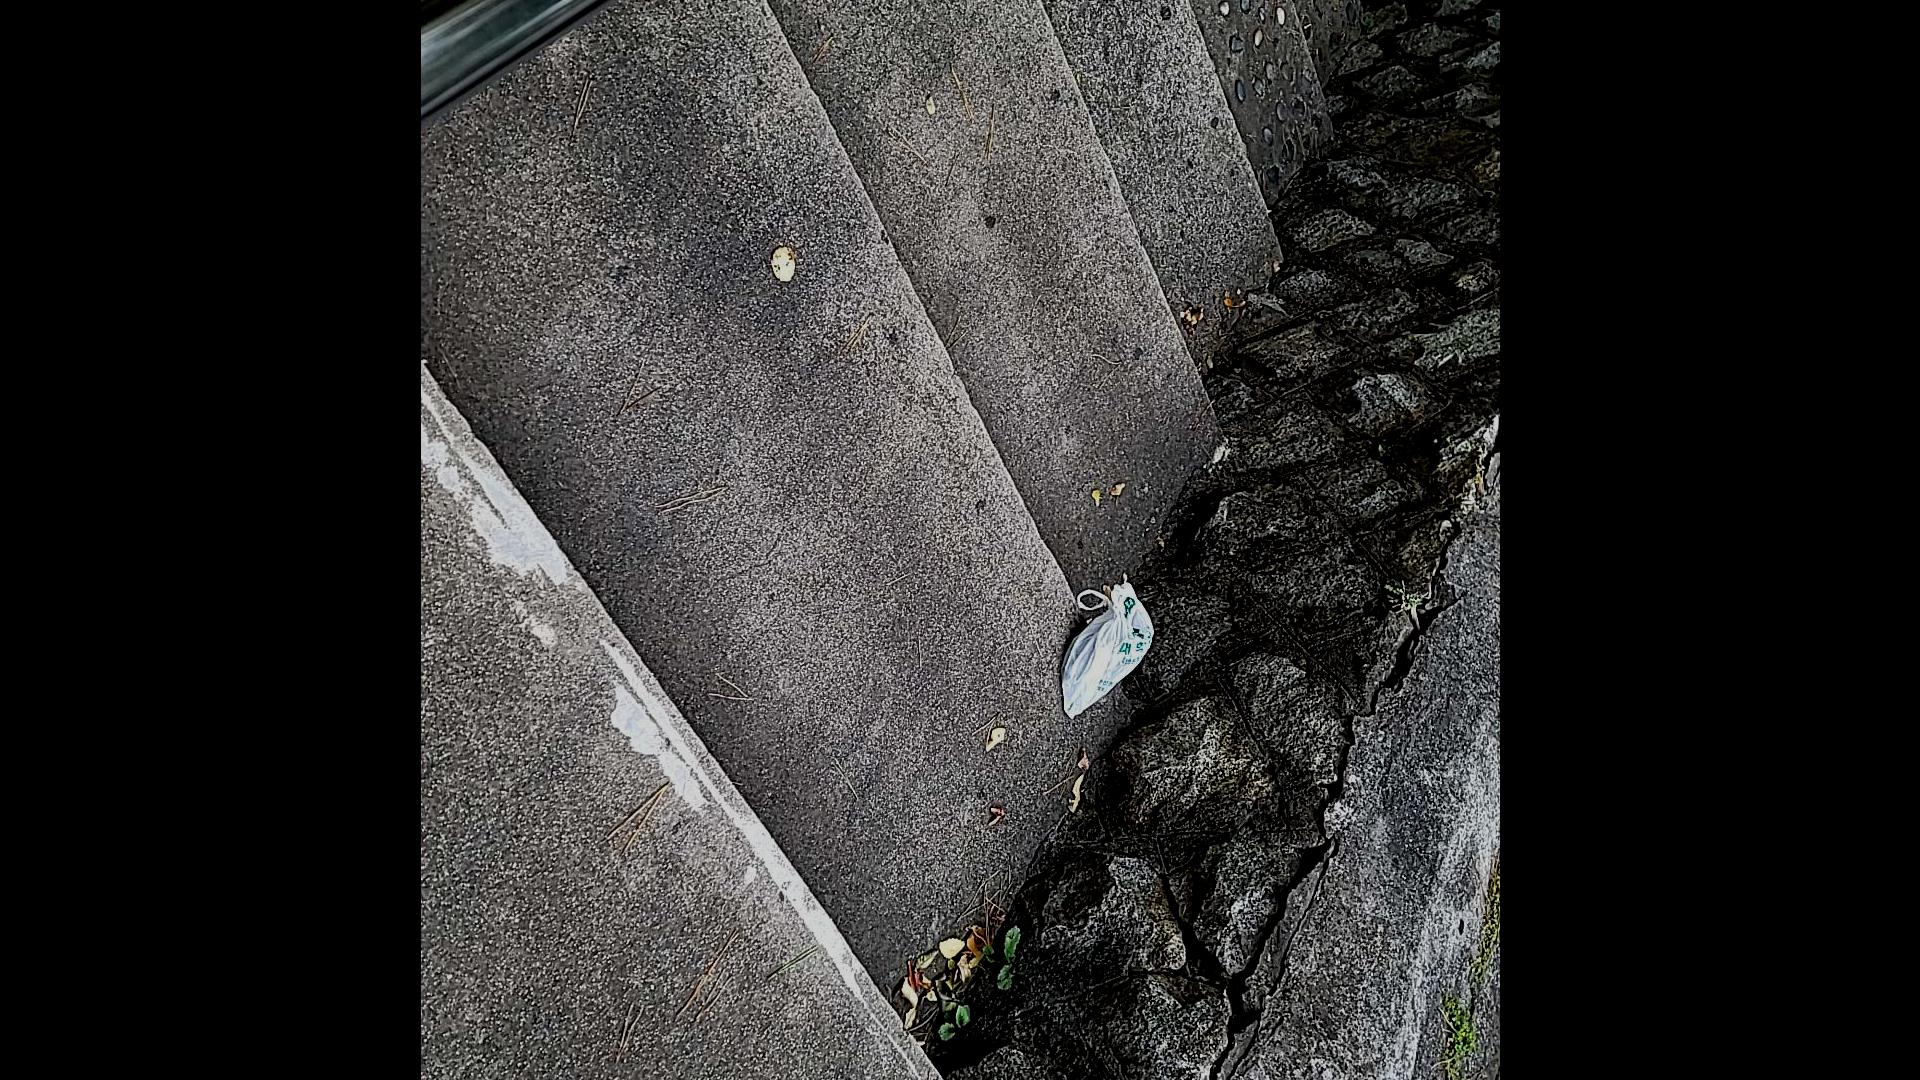white_bag: (1048, 563, 1160, 725)
